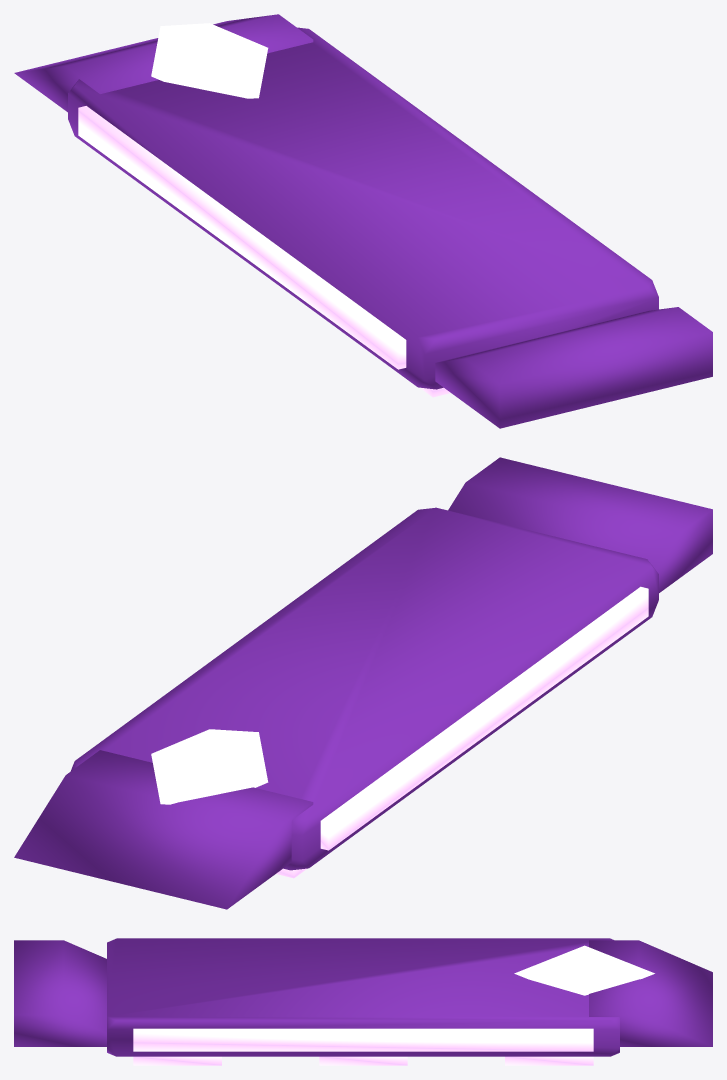
The model's file is STR_Board_Prism.glb.
3 views of the same model, one above another, from view 1: azimuth 30°, elevation 25°; view 2: azimuth 150°, elevation 25°; view 3: azimuth 270°, elevation 25° (orthographic). The views are drawn at different scales.
Visible parts, largest first — view 1: deck, tail, rail_-1, nose, prism; view 2: deck, nose, tail, rail_-1, prism; view 3: deck, rail_1, nose, tail, prism, thruster_-0.42, thruster_0.0, thruster_0.42.
Boxes of the visible parts, bbox=[...] form: deck: bbox=[68, 27, 658, 389]; tail: bbox=[435, 307, 712, 428]; rail_-1: bbox=[78, 106, 406, 369]; nose: bbox=[14, 14, 313, 112]; prism: bbox=[151, 23, 268, 98]; deck: bbox=[71, 507, 658, 870]; nose: bbox=[14, 750, 313, 909]; tail: bbox=[448, 457, 712, 592]; rail_-1: bbox=[320, 586, 648, 850]; prism: bbox=[151, 729, 268, 804]; deck: bbox=[107, 938, 619, 1056]; rail_1: bbox=[133, 1028, 593, 1051]; nose: bbox=[589, 940, 712, 1046]; tail: bbox=[14, 940, 106, 1046]; prism: bbox=[514, 945, 654, 995]; thruster_-0.42: bbox=[505, 1056, 593, 1065]; thruster_0.0: bbox=[319, 1056, 407, 1065]; thruster_0.42: bbox=[133, 1056, 221, 1065].
Bounding box in the file's own units: 0.47 × 0.22 × 1.58.
